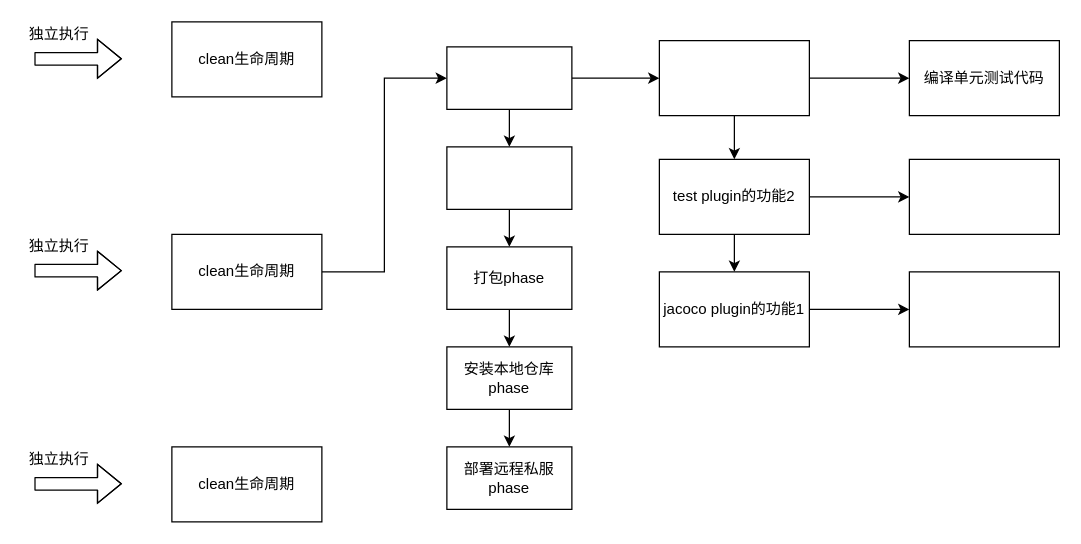
This 1081x544 diagram has some shape labels left out. Each missing label, with the centre of its shape:
"test plugin的功能1" goes at (x=733, y=77).
"单元测试 phase" goes at (x=509, y=177).
"执行单元测试代码" goes at (x=983, y=196).
"源码编译 phase" goes at (x=509, y=77).
"计算单元测试覆盖率" goes at (x=983, y=309).
